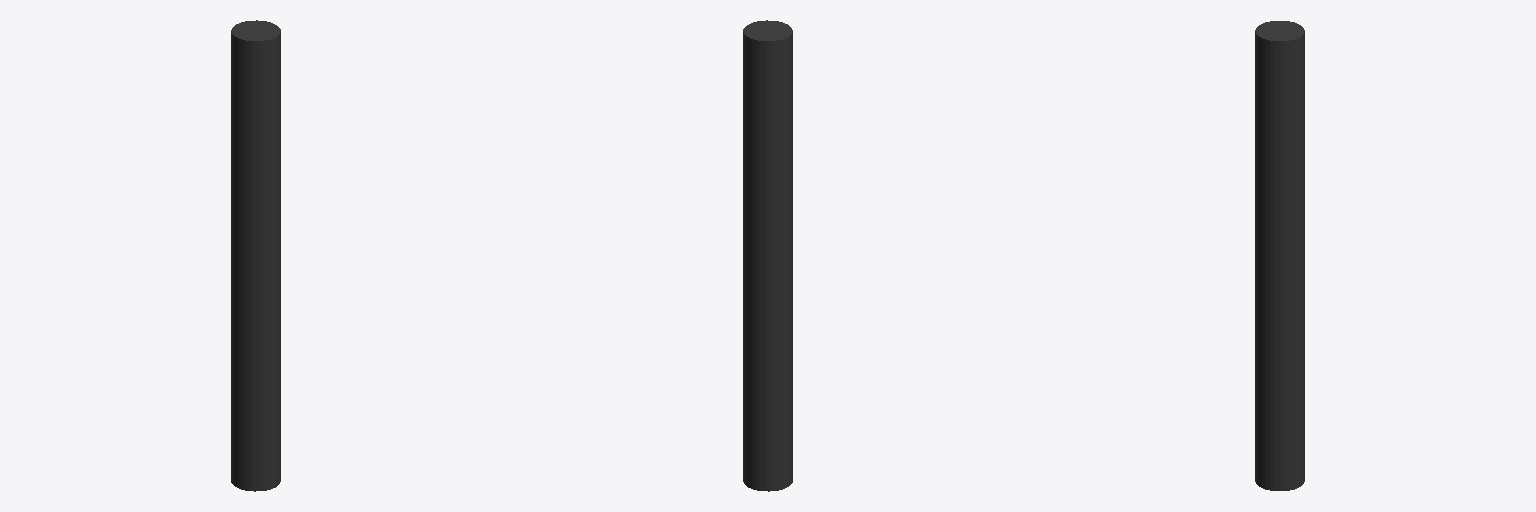
URDF robot description (myfirst):
<?xml version="1.0"?>
<robot name="myfirst">
  <link name="base_link">
    <contact>
      <lateral_friction value="3.0"/>
      <rolling_friction value="3.0"/>
      <spinning_friction value="3.0"/>
    </contact>
    <visual>
      <origin rpy="0 0 0" xyz="0 0 -0.5"/>
      <geometry>
        <cylinder length="1." radius="0.05"/>
      </geometry>
       <material name="dark_grey">
        <color rgba="0.282352 0.282352 0.282352 1"/>
      </material>
    </visual>
    <collision>
      <origin rpy="0 0 0" xyz="0 0 -0.5"/>
      <geometry>
        <cylinder length="1." radius="0.05"/>
      </geometry>
    </collision>
  </link>
</robot>

--- Render facts (derived) ---
The picture shows the robot from 3 angles, left to right: view 1: azimuth 30°, elevation 25°; view 2: azimuth 150°, elevation 25°; view 3: azimuth 270°, elevation 25°; orthographic projection.
Model myfirst with 1 links and 0 joints (none), rooted at base_link, posed every joint at zero.
Visible links, largest first — view 1: base_link; view 2: base_link; view 3: base_link.
Link boxes in pixels (box(x1,y1,x2,y2)): base_link: box(231, 20, 280, 491); base_link: box(743, 20, 792, 491); base_link: box(1255, 21, 1304, 490).
Bounding box of the posed robot: 0.1 × 0.1 × 1 m (x, y, z).
Geometry: primitives only (box / cylinder / sphere), no mesh files.
